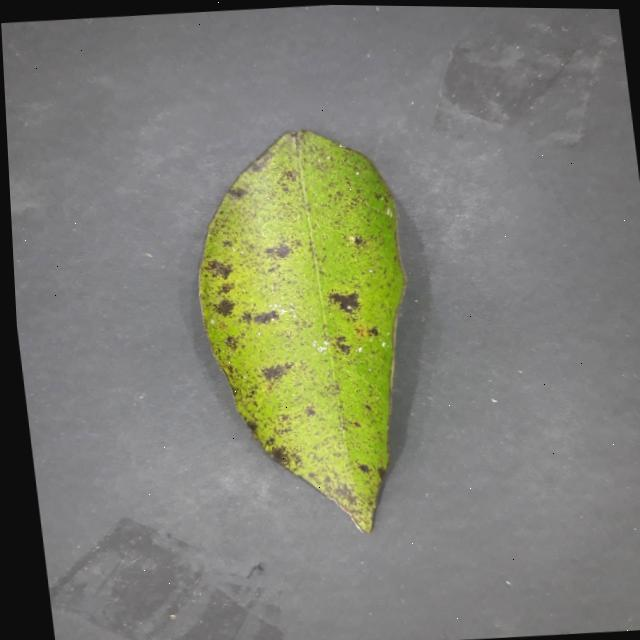greasy_spot: (199, 130, 404, 531)
